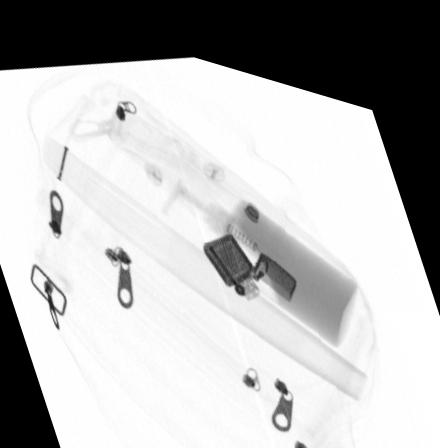Lighter: (202, 218, 297, 288)
